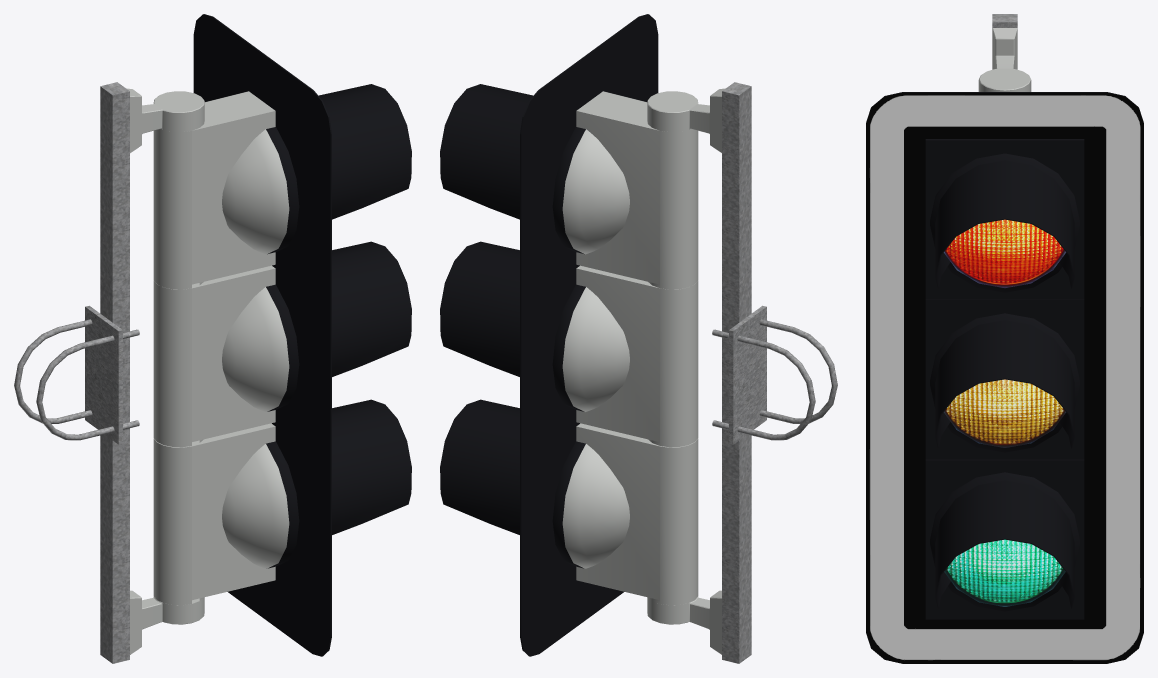
The model's file is Ampel_Standard_Ausleger.glb.
3 views of the same model, side by side, from view 1: azimuth 30°, elevation 25°; view 2: azimuth 150°, elevation 25°; view 3: azimuth 270°, elevation 25° (orthographic).
Visible parts, largest first — view 1: Kontrastblende.001, Cube.014, Cube.012, Cube.015, Cube.013, Sonnenblende.013, Sonnenblende.011, Sonnenblende.012, BezierCurve.015, BezierCurve.014, BezierCurve.013, Cube.016 (+3 smaller); view 2: Kontrastblende.001, Cube.014, Cube.012, Cube.015, Cube.013, Sonnenblende.013, Sonnenblende.011, Sonnenblende.012, BezierCurve.015, BezierCurve.014, BezierCurve.013, Cube.016 (+3 smaller); view 3: Kontrastblende.001, Blende.013, Blende.012, Blende.011, Sonnenblende.011, Sonnenblende.013, Sonnenblende.012, BezierCurve.013, BezierCurve.014, BezierCurve.015, Masthalterung.008.
Part boxes in pixels (<box>): Kontrastblende.001: <box>193,14,331,656</box>; Cube.014: <box>153,91,275,289</box>; Cube.012: <box>153,423,275,605</box>; Cube.015: <box>100,82,129,663</box>; Cube.013: <box>153,265,275,447</box>; Sonnenblende.013: <box>319,84,411,219</box>; Sonnenblende.011: <box>332,399,411,534</box>; Sonnenblende.012: <box>332,241,411,376</box>; BezierCurve.015: <box>222,127,299,254</box>; BezierCurve.014: <box>222,284,299,411</box>; BezierCurve.013: <box>222,441,299,568</box>; Cube.016: <box>85,305,122,444</box>; Kontrastblende.001: <box>520,14,658,656</box>; Cube.014: <box>576,91,698,289</box>; Cube.012: <box>576,423,698,605</box>; Cube.015: <box>722,82,751,663</box>; Cube.013: <box>576,265,698,447</box>; Sonnenblende.013: <box>440,84,532,219</box>; Sonnenblende.011: <box>440,399,519,534</box>; Sonnenblende.012: <box>440,241,519,376</box>; BezierCurve.015: <box>552,127,629,254</box>; BezierCurve.014: <box>552,284,629,411</box>; BezierCurve.013: <box>552,441,629,568</box>; Cube.016: <box>729,305,766,444</box>; Kontrastblende.001: <box>866,92,1143,663</box>; Blende.013: <box>925,139,1084,299</box>; Blende.012: <box>925,299,1084,459</box>; Blende.011: <box>925,459,1084,619</box>; Sonnenblende.011: <box>935,480,1074,608</box>; Sonnenblende.013: <box>935,160,1074,288</box>; Sonnenblende.012: <box>935,320,1074,448</box>; BezierCurve.013: <box>930,472,1079,611</box>; BezierCurve.014: <box>930,313,1079,452</box>; BezierCurve.015: <box>930,153,1079,292</box>; Masthalterung.008: <box>978,28,1031,91</box>.
Bounding box in the file's own units: 0.6636 × 1 × 0.4378.
7 materials, 7 textured.
